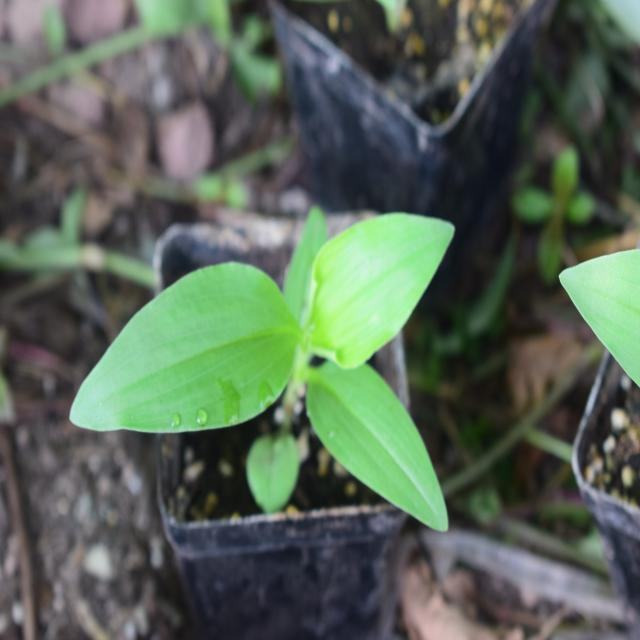Common Dayflower: (64, 215, 479, 519)
